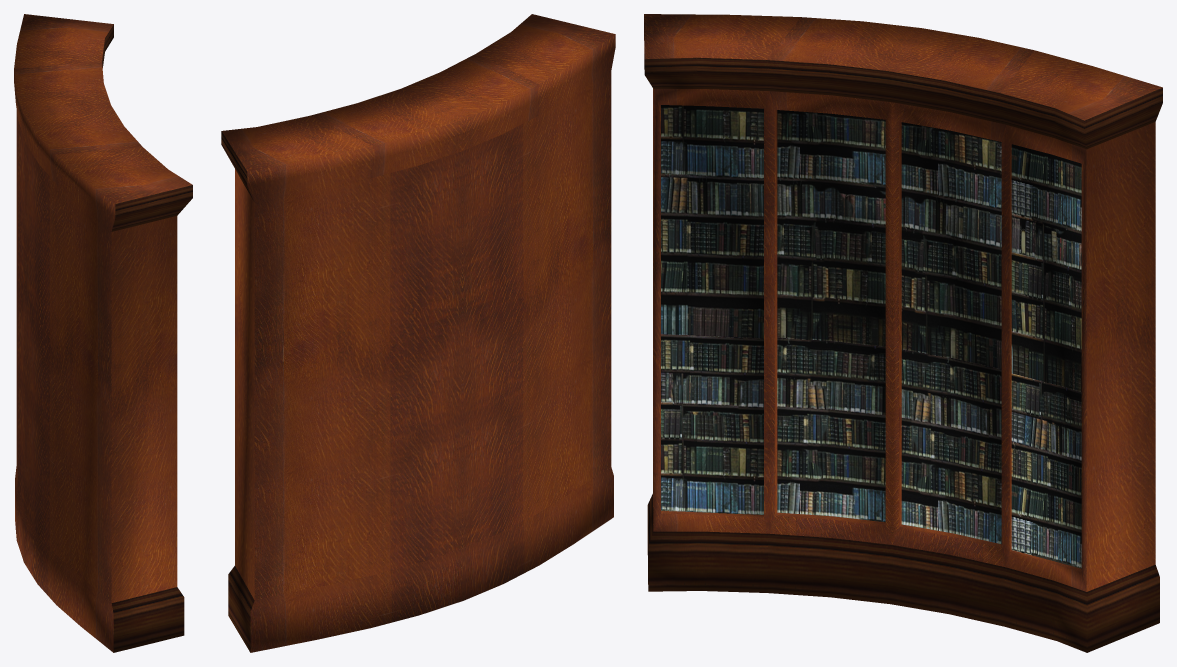
Rendered from Bookcase_round_Longest.fbx.
3 views of the same model, side by side, from view 1: azimuth 30°, elevation 25°; view 2: azimuth 150°, elevation 25°; view 3: azimuth 270°, elevation 25° (orthographic). The views are drawn at different scales.
Visible parts, largest first — view 1: Bookcaselong3.001; view 2: Bookcaselong3.001; view 3: Bookcaselong3.001.
Boxes of the visible parts, left/top/right/bottom form: Bookcaselong3.001: left=14, top=14, right=192, bottom=652; Bookcaselong3.001: left=221, top=14, right=615, bottom=652; Bookcaselong3.001: left=644, top=14, right=1162, bottom=652.
Bounding box in the file's own units: 198 × 463 × 406.
